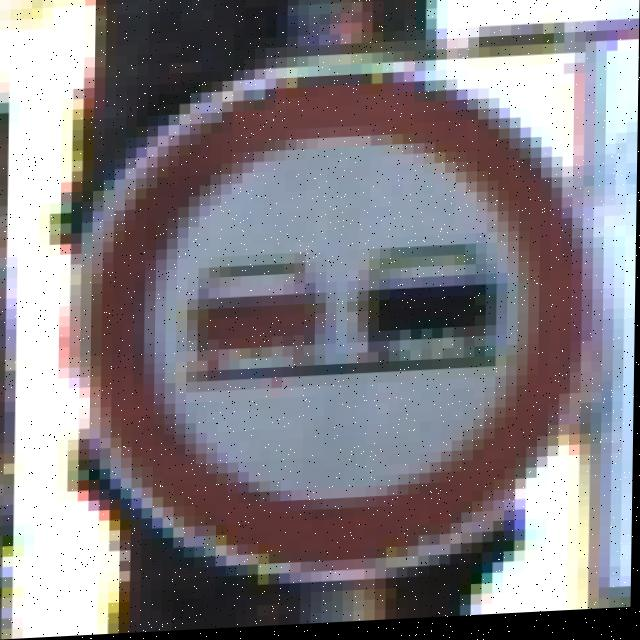no_overtaking: (86, 69, 580, 588)
